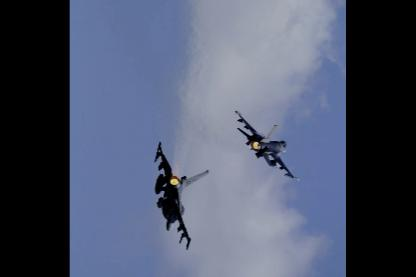F14: (155, 140, 210, 248), (233, 108, 300, 180)
